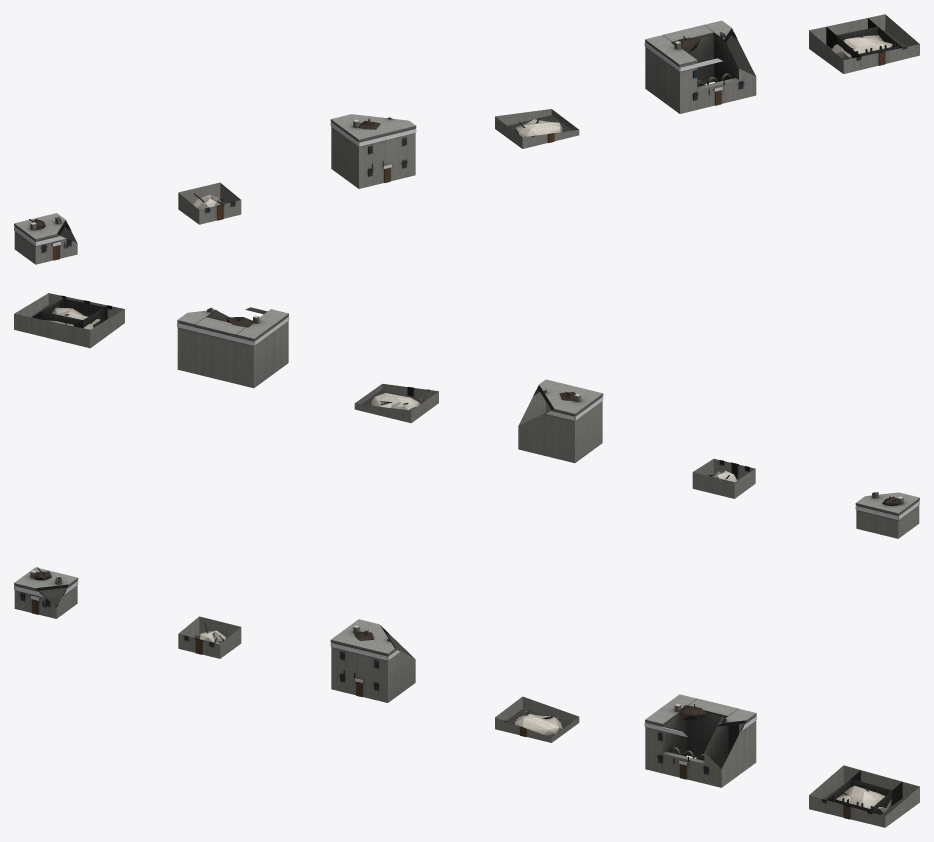
File: modern-maghreb-houses-damage.glb
The picture shows the model from 3 angles, top to bottom: view 1: azimuth 30°, elevation 25°; view 2: azimuth 150°, elevation 25°; view 3: azimuth 330°, elevation 25°; orthographic projection.
Parts seen in each view (by area): view 1: LOD0.004, LOD0.002, LOD0.005, LOD0, LOD0.003, LOD0.001; view 2: LOD0.004, LOD0.002, LOD0.005, LOD0, LOD0.003, LOD0.001; view 3: LOD0.004, LOD0.002, LOD0.005, LOD0, LOD0.003, LOD0.001.
Part boxes in pixels (<box>): LOD0.004: <box>644,20,756,113</box>; LOD0.002: <box>330,114,416,188</box>; LOD0.005: <box>809,14,919,73</box>; LOD0: <box>14,213,77,264</box>; LOD0.003: <box>495,109,579,148</box>; LOD0.001: <box>178,182,241,224</box>; LOD0.004: <box>177,307,289,388</box>; LOD0.002: <box>518,379,603,462</box>; LOD0.005: <box>14,293,124,348</box>; LOD0: <box>855,492,919,538</box>; LOD0.003: <box>354,383,438,423</box>; LOD0.001: <box>692,459,755,498</box>; LOD0.004: <box>644,694,756,787</box>; LOD0.002: <box>330,619,415,702</box>; LOD0.005: <box>809,765,919,827</box>; LOD0: <box>14,567,78,618</box>; LOD0.003: <box>495,696,579,742</box>; LOD0.001: <box>178,616,241,658</box>.
Size of what is drawn, in the model's own units: 16.1 by 0.9725 by 1.13.
2 materials, 2 textured.
